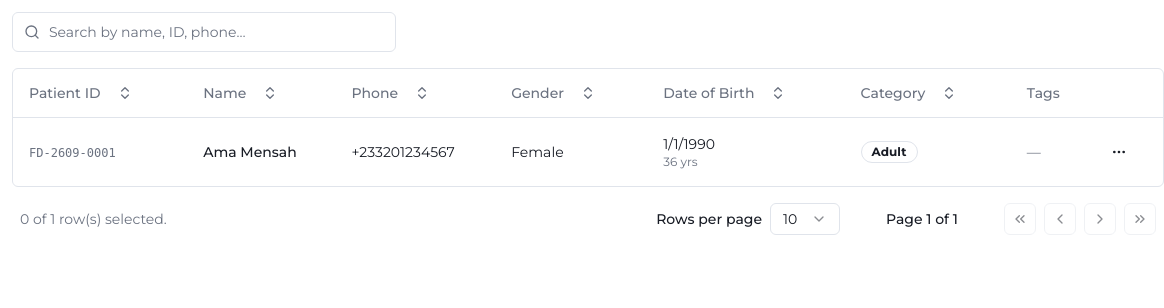
it: PatientTable row menu — Edit permission gate [H5] › shows "Edit" when the caller has patients:update
Click the button named "Open menu" in the row of "FD-2609-0001" at (1119, 152), box [1103,136,1135,168]
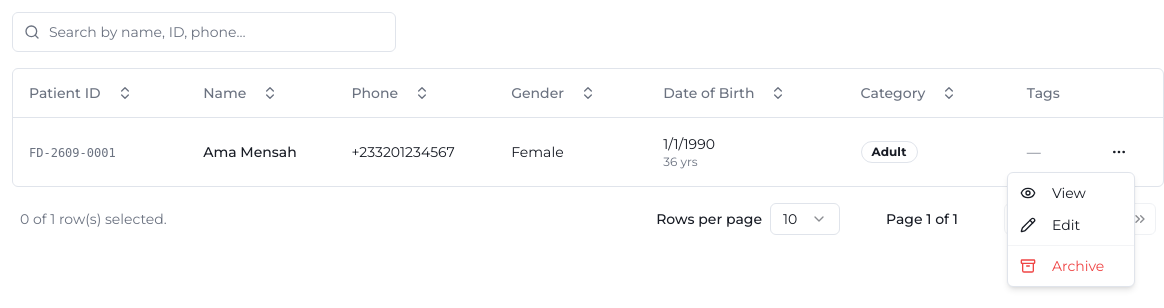
Expected: the menu item "Edit" is shown, [1020,216,1080,234]
